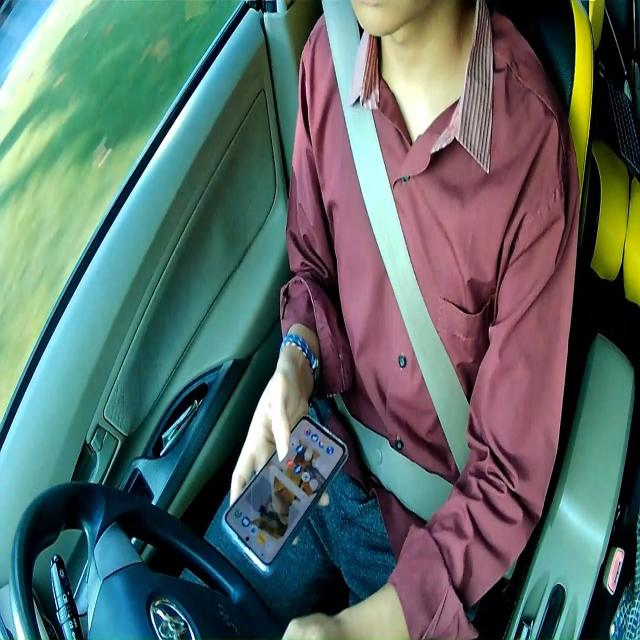phone: (219, 409, 349, 580)
